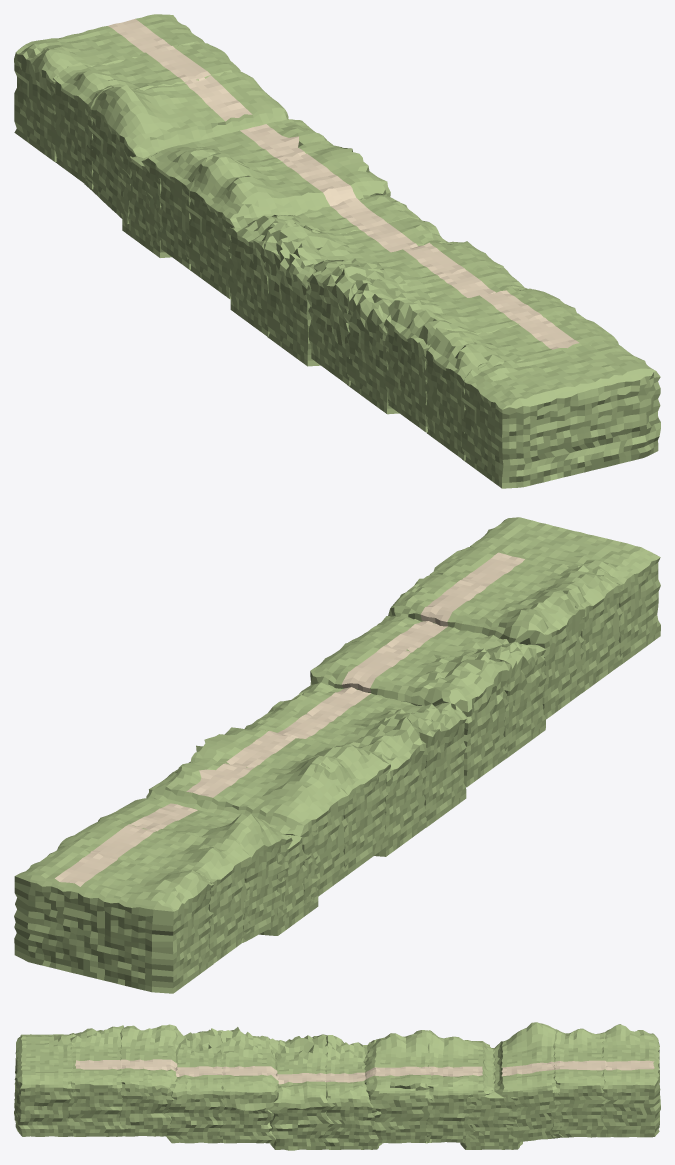
The model's file is terreno LVL 2.1.fbx.
3 views of the same model, one above another, from view 1: azimuth 30°, elevation 25°; view 2: azimuth 150°, elevation 25°; view 3: azimuth 270°, elevation 25° (orthographic). The views are drawn at different scales.
Visible parts, largest first — view 1: Cube.054; view 2: Cube.054; view 3: Cube.054.
Boxes of the visible parts, bbox=[...] form: Cube.054: bbox=[14, 14, 660, 488]; Cube.054: bbox=[14, 517, 660, 993]; Cube.054: bbox=[14, 1022, 660, 1150].
Size of the model in its own units: 2986 by 2201 by 15146.
